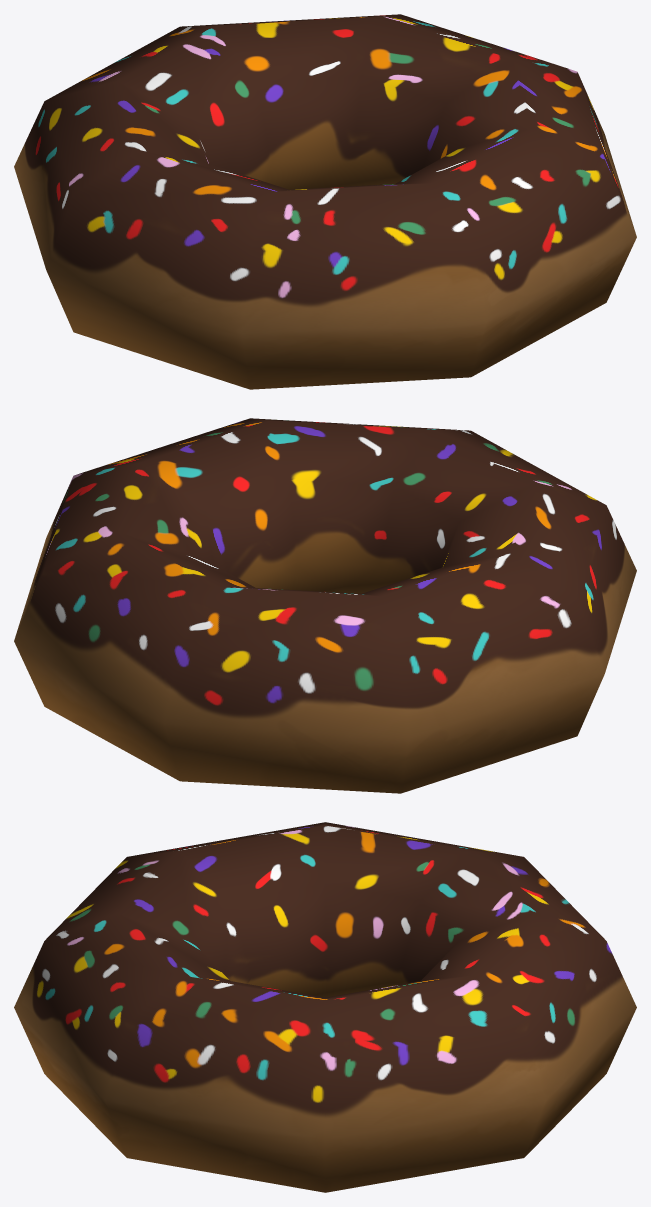
The model's file is Chocolate_Donut.fbx.
The picture shows the model from 3 angles, top to bottom: view 1: azimuth 30°, elevation 25°; view 2: azimuth 150°, elevation 25°; view 3: azimuth 270°, elevation 25°; orthographic projection. The views are drawn at different scales.
Parts seen in each view (by area): view 1: Donut_Base5; view 2: Donut_Base5; view 3: Donut_Base5.
Boxes of the visible parts, x1,y1,x2,y2 form: Donut_Base5: (14, 14, 636, 389); Donut_Base5: (14, 418, 636, 793); Donut_Base5: (14, 822, 636, 1192).
Size of the model in its own units: 3 by 1 by 3.
Materials: 1 (1 with a texture image).
